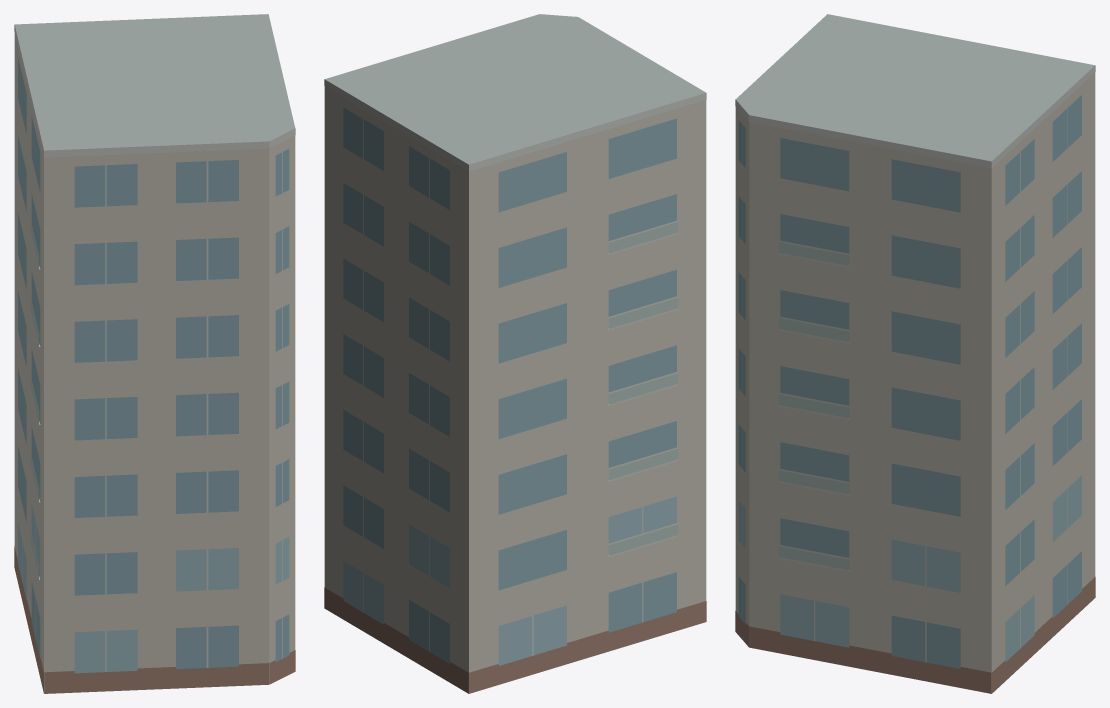
Rendered from survey-upis-32531675.glb.
3 views of the same model, side by side, from view 1: azimuth 30°, elevation 25°; view 2: azimuth 150°, elevation 25°; view 3: azimuth 270°, elevation 25° (orthographic). The views are drawn at different scales.
Visible parts, largest first — view 1: survey-upis-32531675.tmp; view 2: survey-upis-32531675.tmp; view 3: survey-upis-32531675.tmp.
Part boxes in pixels (x1,y1,x2,y2): survey-upis-32531675.tmp: (14, 14, 295, 693); survey-upis-32531675.tmp: (324, 14, 706, 693); survey-upis-32531675.tmp: (735, 14, 1095, 693).
Size of the model in its own units: 11.2 by 18.85 by 11.56.
